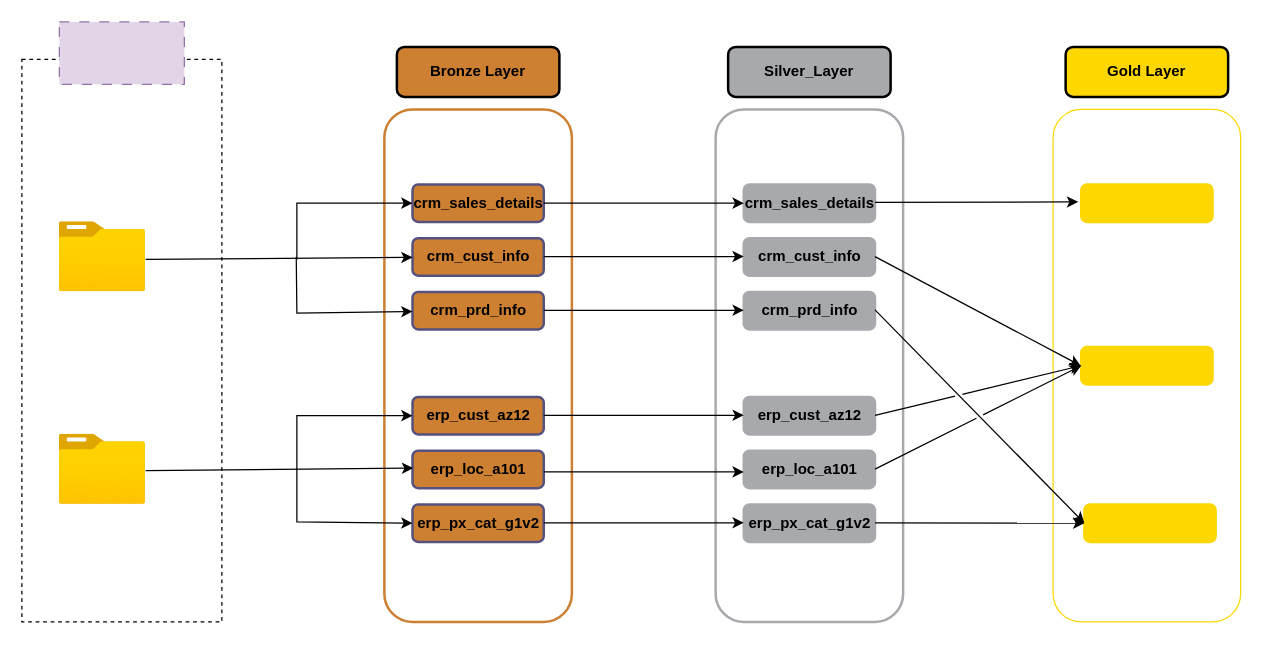
The diagram is 1263 pixels wide and 645 high, and some of its shapes have lost their labels. Here are the shapes that lost their labels. From the top down, the box of each, then its label:
(58, 21, 184, 84): Spurces
(1079, 182, 1213, 222): fact_sales
(59, 221, 145, 291): CRM
(1079, 345, 1213, 385): dim_customers
(59, 434, 145, 504): ERP
(1082, 502, 1216, 542): dim_products
